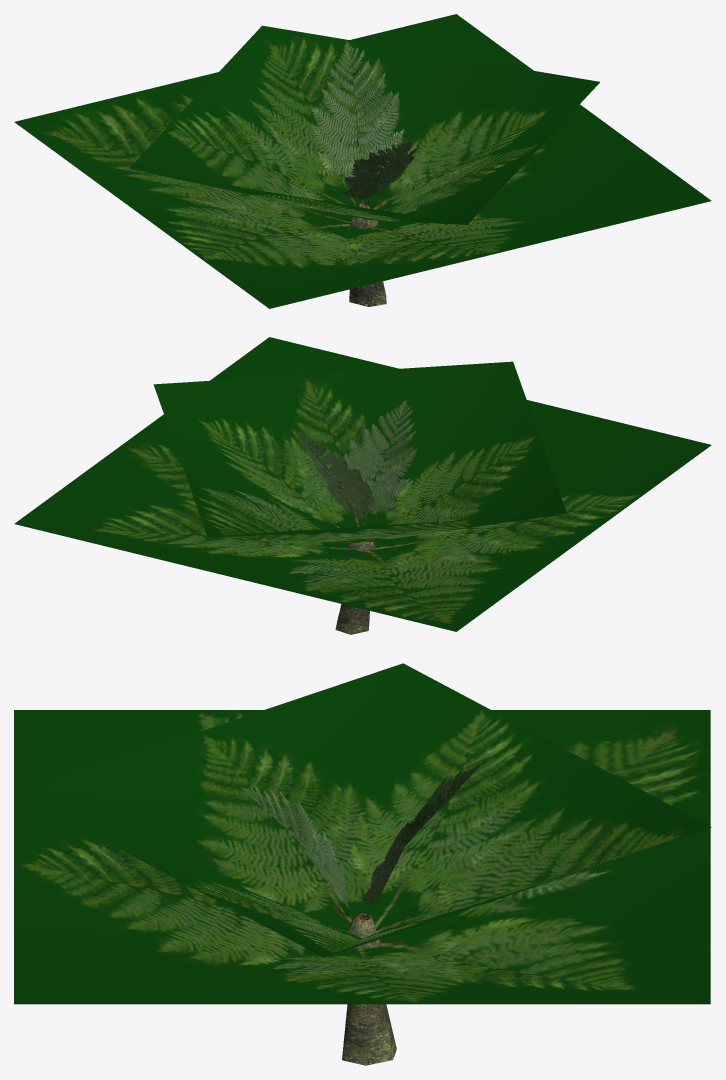
File: fern_giantfern_l0.fbx
The picture shows the model from 3 angles, top to bottom: view 1: azimuth 30°, elevation 25°; view 2: azimuth 150°, elevation 25°; view 3: azimuth 270°, elevation 25°; orthographic projection. The views are drawn at different scales.
Parts seen in each view (by area): view 1: mesh_node; view 2: mesh_node; view 3: mesh_node.
Boxes of the visible parts, x1,y1,x2,y2 form: mesh_node: (14, 14, 711, 308); mesh_node: (14, 337, 711, 634); mesh_node: (14, 663, 711, 1065).
Size of the model in its own units: 3.5 by 1.72 by 3.49.
